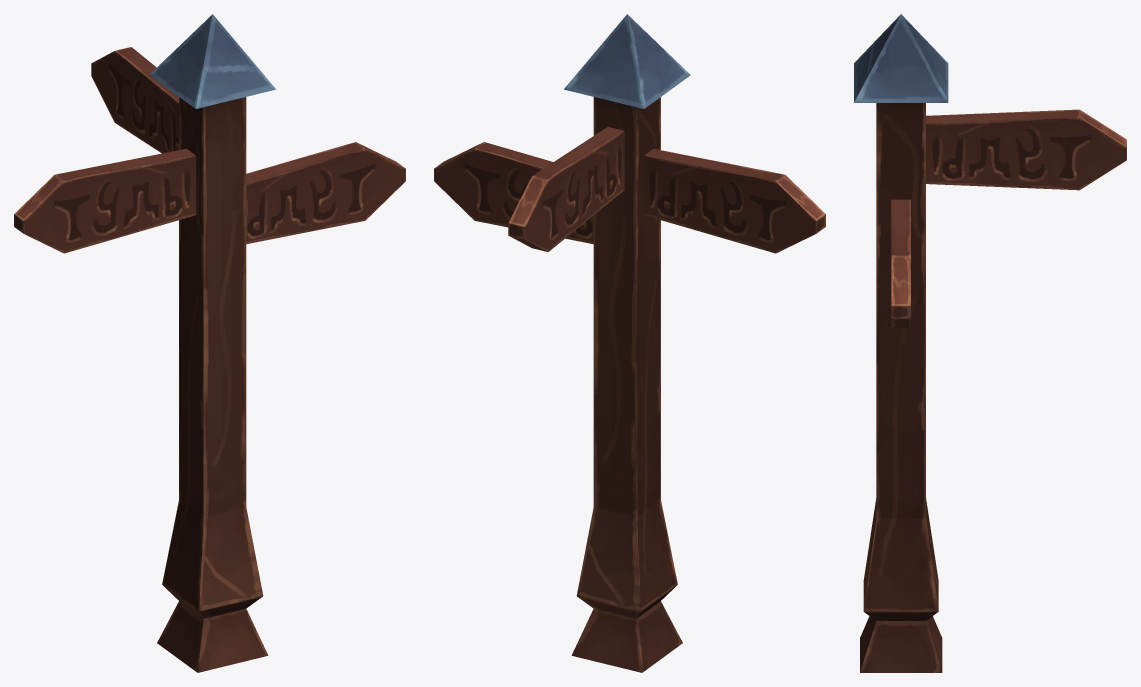
File: road_sign_03.fbx
The picture shows the model from 3 angles, left to right: view 1: azimuth 30°, elevation 25°; view 2: azimuth 150°, elevation 25°; view 3: azimuth 270°, elevation 25°; orthographic projection.
Visible parts, largest first — view 1: road_sign_03; view 2: road_sign_03; view 3: road_sign_03.
Boxes of the visible parts, x1,y1,x2,y2 form: road_sign_03: [14, 14, 405, 672]; road_sign_03: [434, 14, 825, 672]; road_sign_03: [854, 14, 1126, 672].
Bounding box in the file's own units: 3.62 × 5.75 × 2.21.
